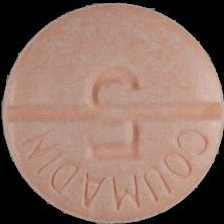55154-7704: (0, 0, 224, 224)
